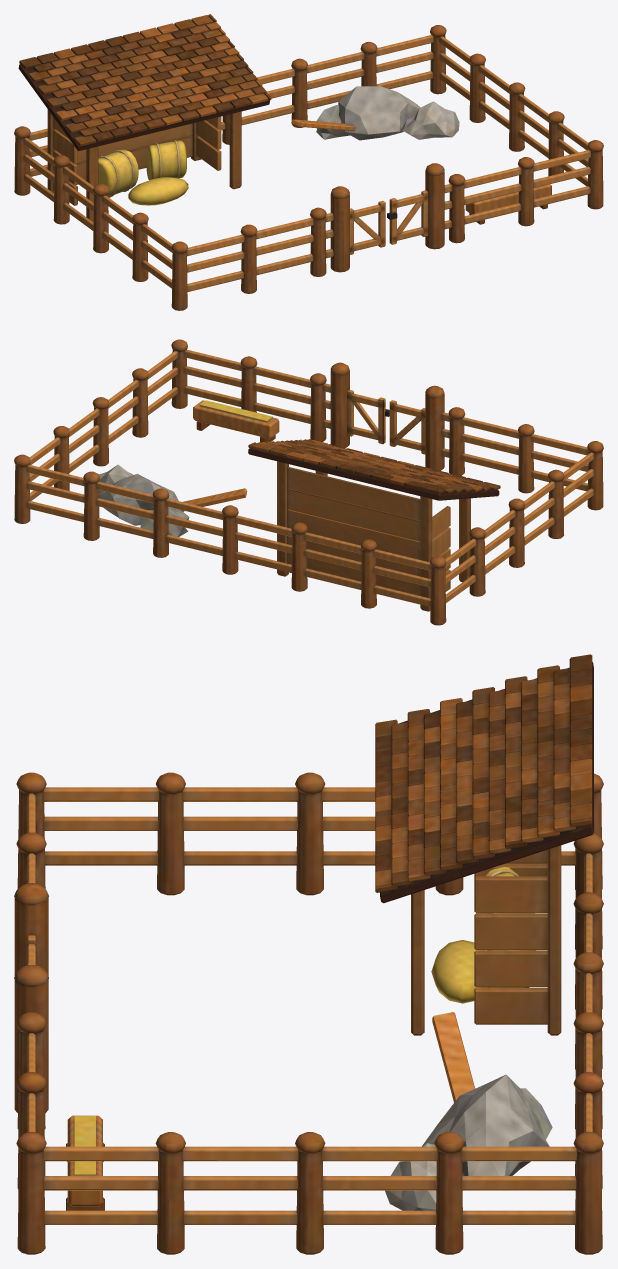
Rendered from goat_yard.glb.
3 views of the same model, one above another, from view 1: azimuth 30°, elevation 25°; view 2: azimuth 150°, elevation 25°; view 3: azimuth 270°, elevation 25° (orthographic). The views are drawn at different scales.
Visible parts, largest first — view 1: goat_yard, gate1, gate0; view 2: goat_yard, gate1, gate0; view 3: goat_yard.
Boxes of the visible parts, <box> form: goat_yard: <box>14,14,603,310</box>; gate1: <box>387,190,428,244</box>; gate0: <box>350,200,385,254</box>; goat_yard: <box>14,339,603,625</box>; gate1: <box>347,389,389,444</box>; gate0: <box>389,400,425,454</box>; goat_yard: <box>14,654,603,1254</box>.
Bounding box in the file's own units: 3 × 0.9343 × 2.01.
1 material, 1 textured.
